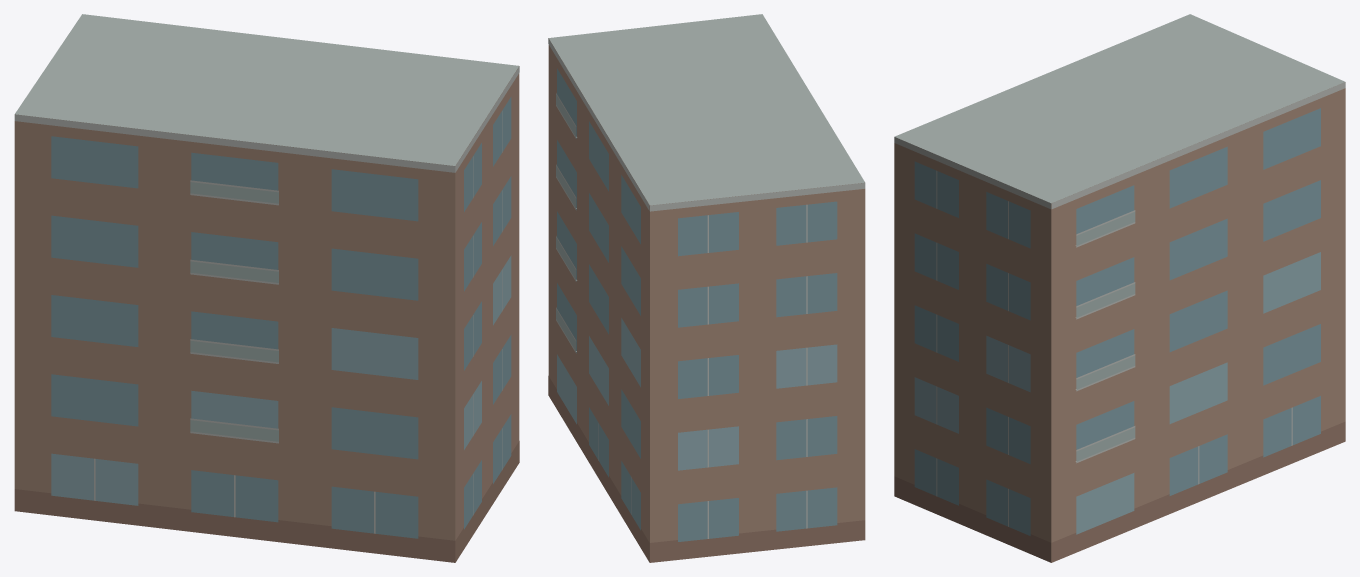
Rendered from survey-upis-32882493.glb.
The picture shows the model from 3 angles, left to right: view 1: azimuth 30°, elevation 25°; view 2: azimuth 150°, elevation 25°; view 3: azimuth 270°, elevation 25°; orthographic projection. The views are drawn at different scales.
Parts seen in each view (by area): view 1: survey-upis-32882493.tmp; view 2: survey-upis-32882493.tmp; view 3: survey-upis-32882493.tmp.
Part boxes in pixels (left/top/right/bottom): survey-upis-32882493.tmp: left=14, top=14, right=519, bottom=562; survey-upis-32882493.tmp: left=548, top=14, right=865, bottom=562; survey-upis-32882493.tmp: left=894, top=14, right=1345, bottom=562.
Size of the model in its own units: 16.16 by 14.3 by 16.28.
